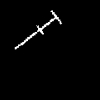double_crochet: (15, 11, 61, 48)
